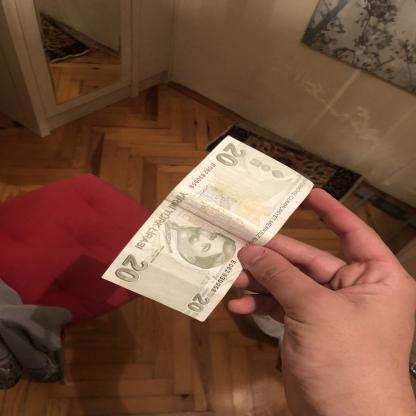5 TL: (101, 133, 317, 323)
